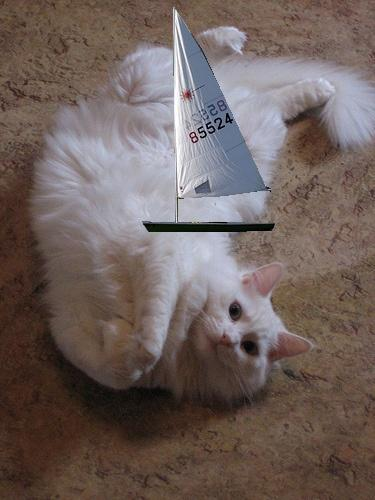tampered: (143, 6, 275, 232)
